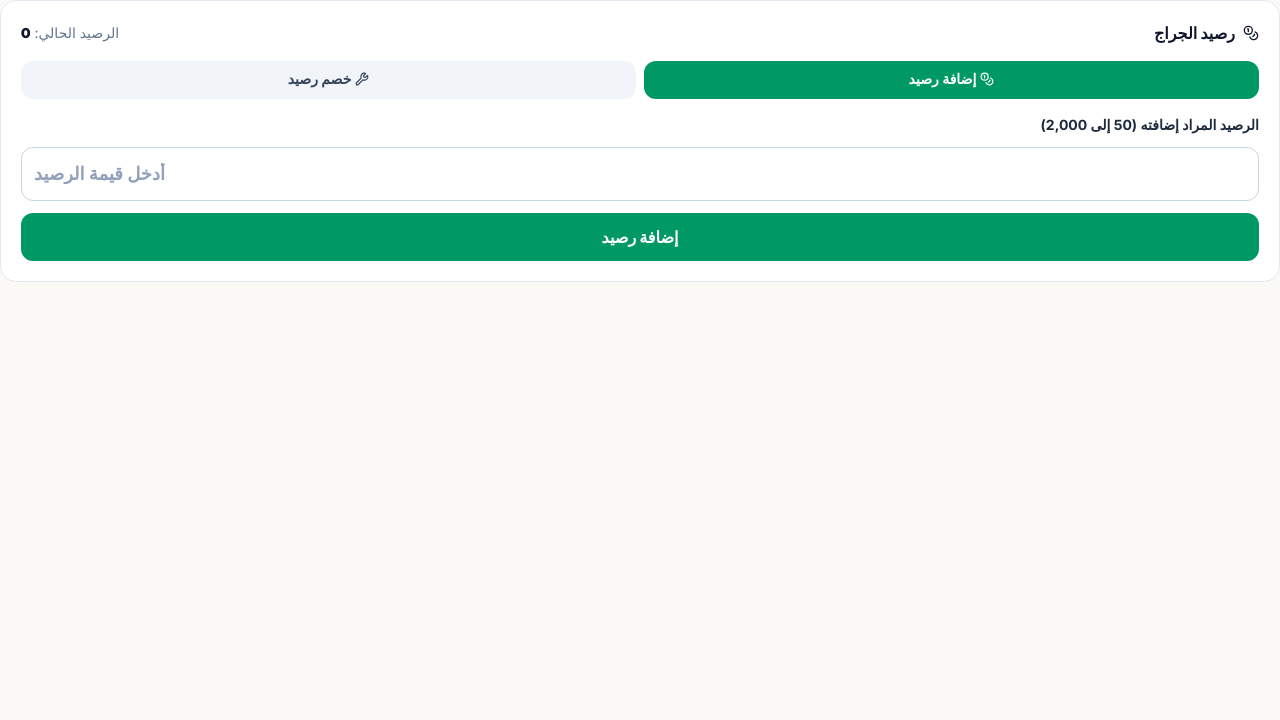
AdminCreditGrantPanel › shows Arabic guidance when the server returns an English error code
The image size is (1280, 720).
Type "100" into the field labelled "الرصيد المراد إضافته (50 إلى 2,000)" at (640,174), box [21, 147, 1259, 201]
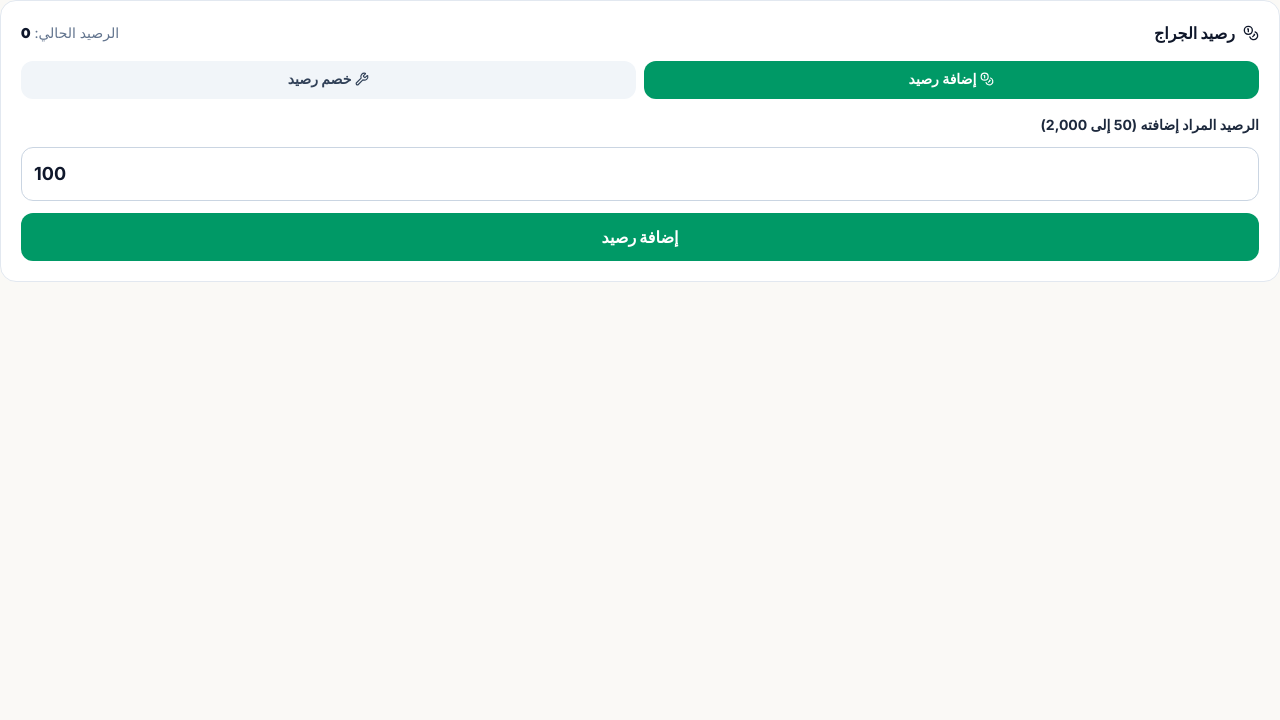
Click the button "إضافة رصيد" at (640,237), box [21, 213, 1259, 261]
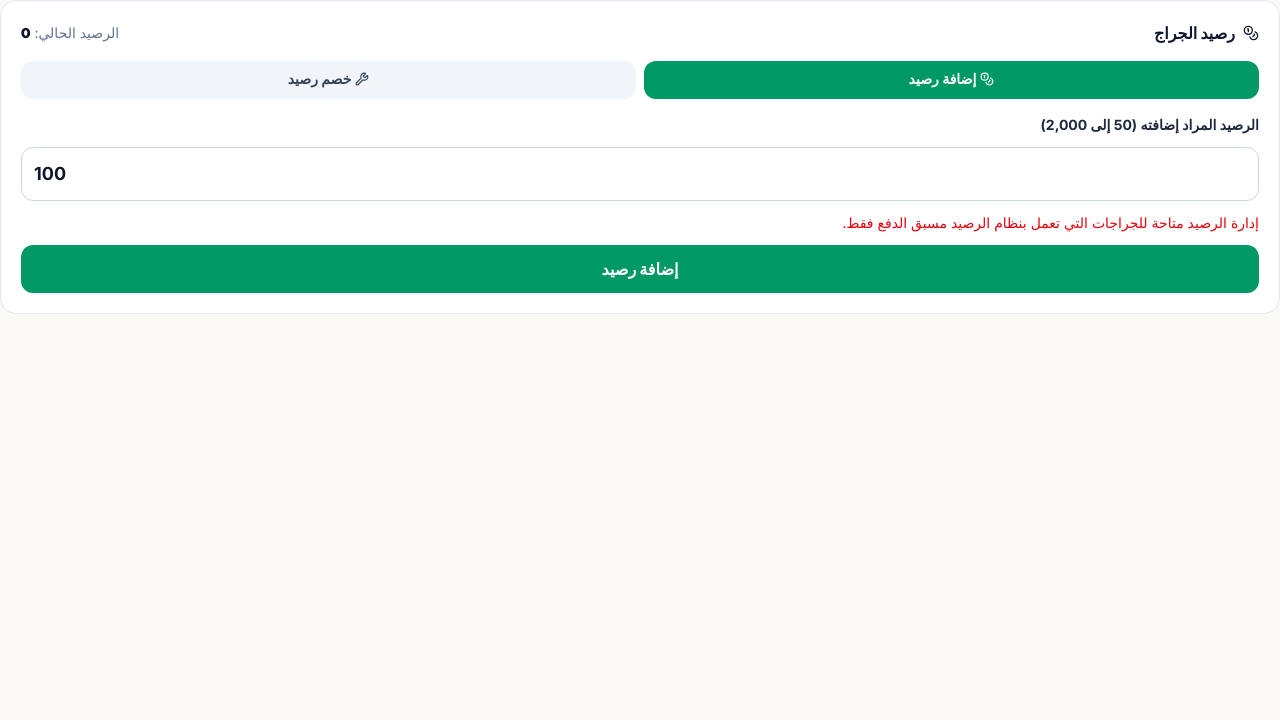
Check: the message reads "إدارة الرصيد متاحة للجراجات التي تعمل بنظام الرصيد مسبق الدفع فقط.", box [842, 214, 1259, 231]
